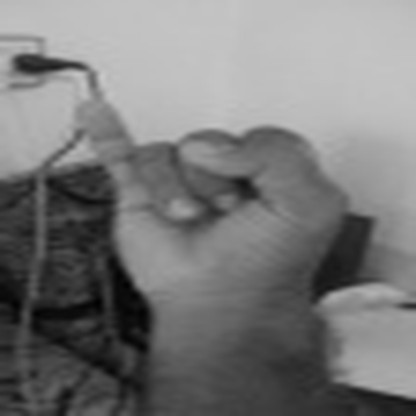i: (67, 93, 358, 301)
